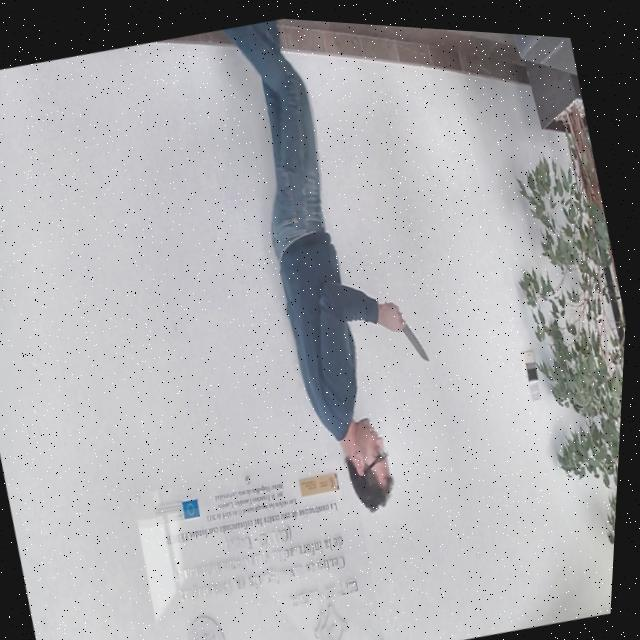knife: (402, 312, 436, 361)
